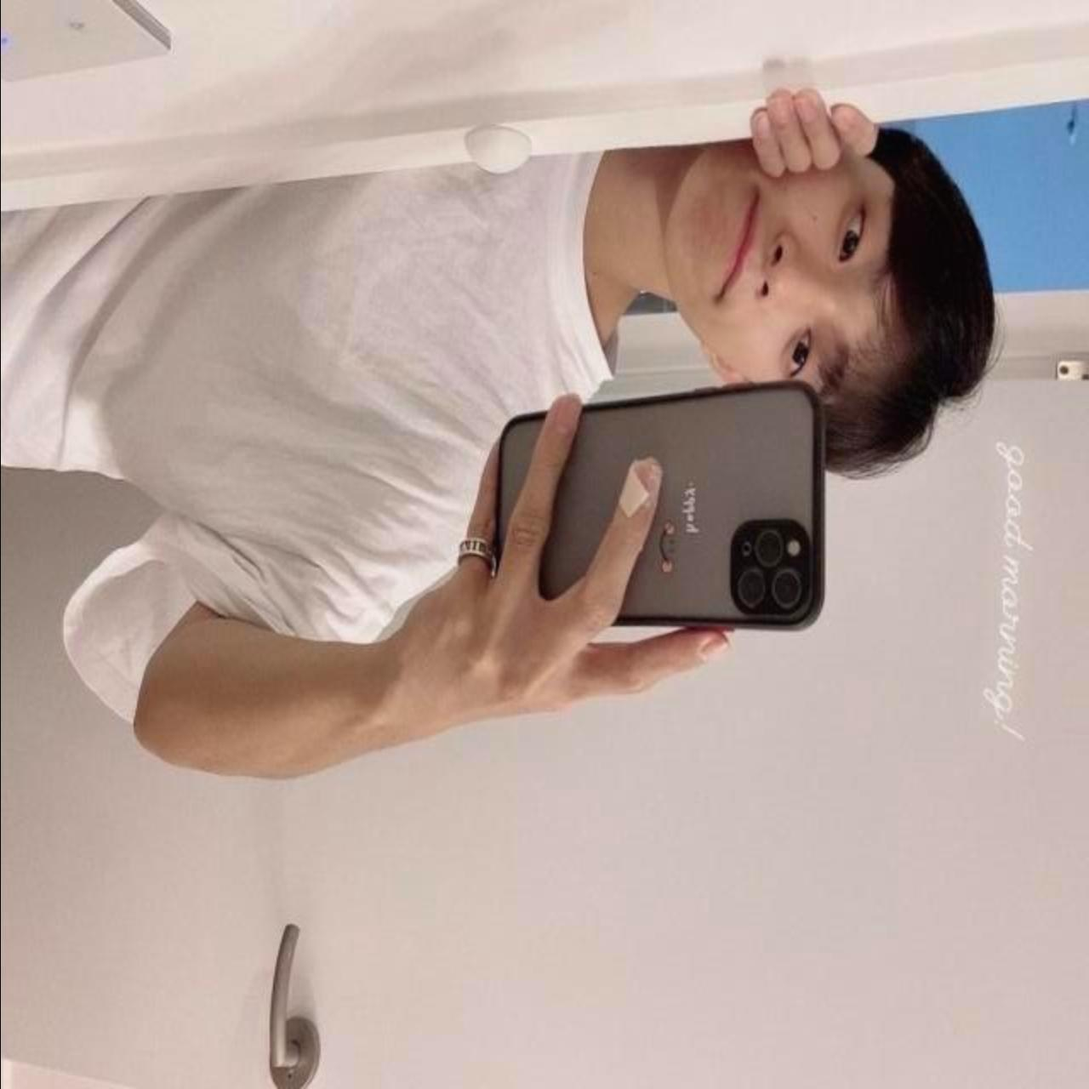phone: (488, 369, 835, 643)
